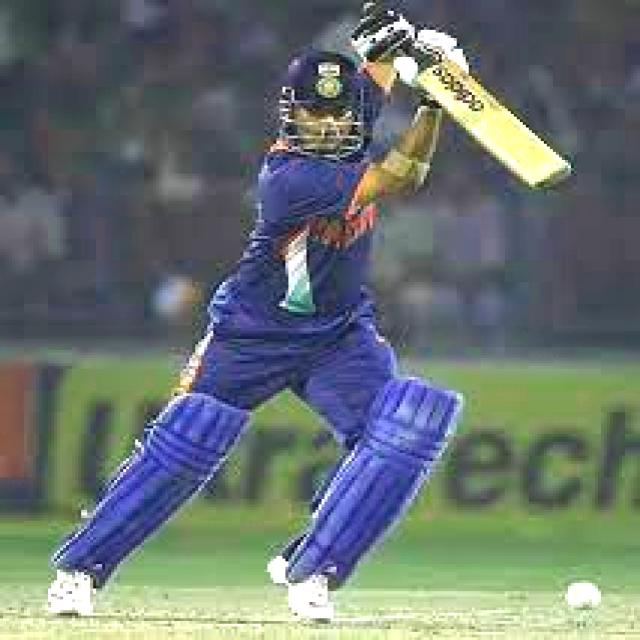toe: (518, 153, 585, 194)
